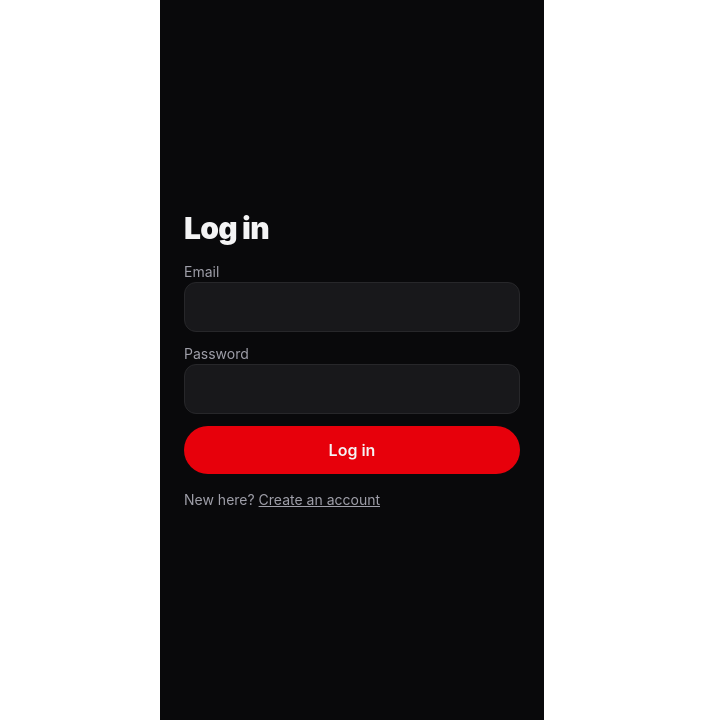
it: auth › logs in and lands on the account page with the profile
Expected: the heading "Log in" is shown, [184,210,269,246]
Type "ana@example.com" into the field labelled "Email". click: point(352, 307)
box: [184,282,520,332]
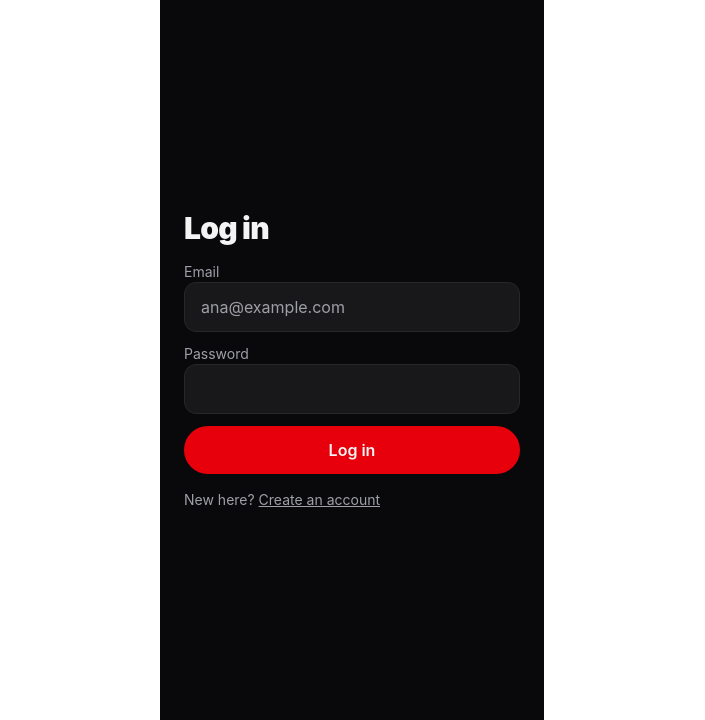
Type "correct horse" into the password field labelled "Password". click: point(352, 389)
box: [184,364,520,414]
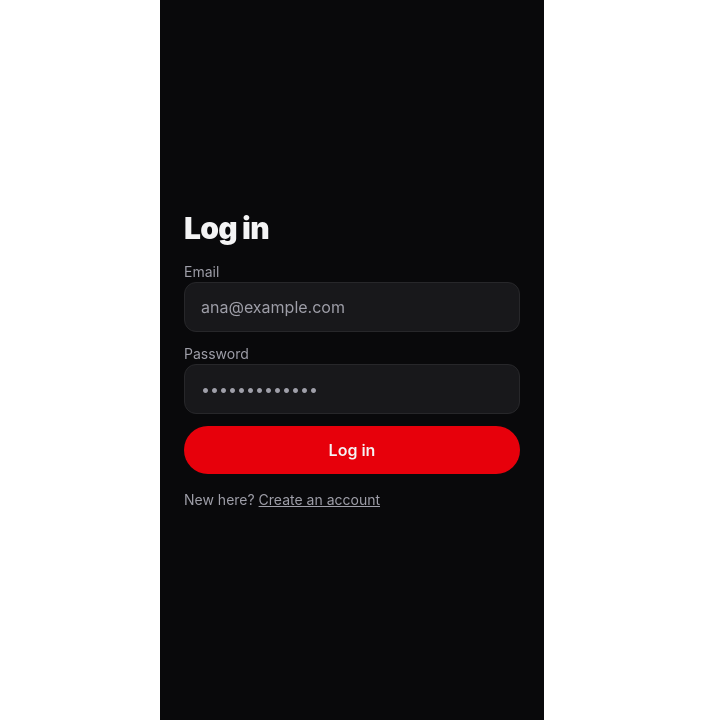
Click the button "Log in". click: point(352, 450)
box: [184,426,520,474]
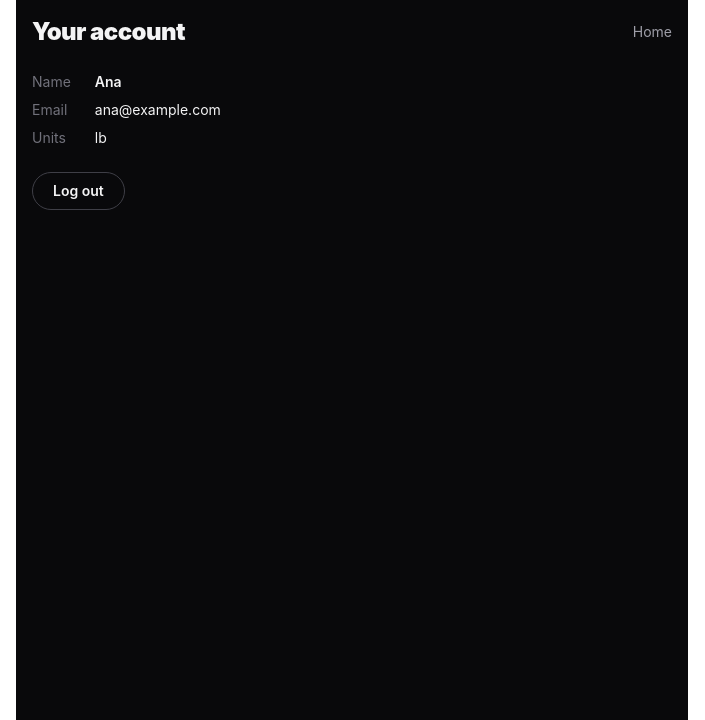
Expected: the heading "Your account" is shown, [32,16,185,48]
Expected: the text "Ana" is shown, [95,73,122,90]
